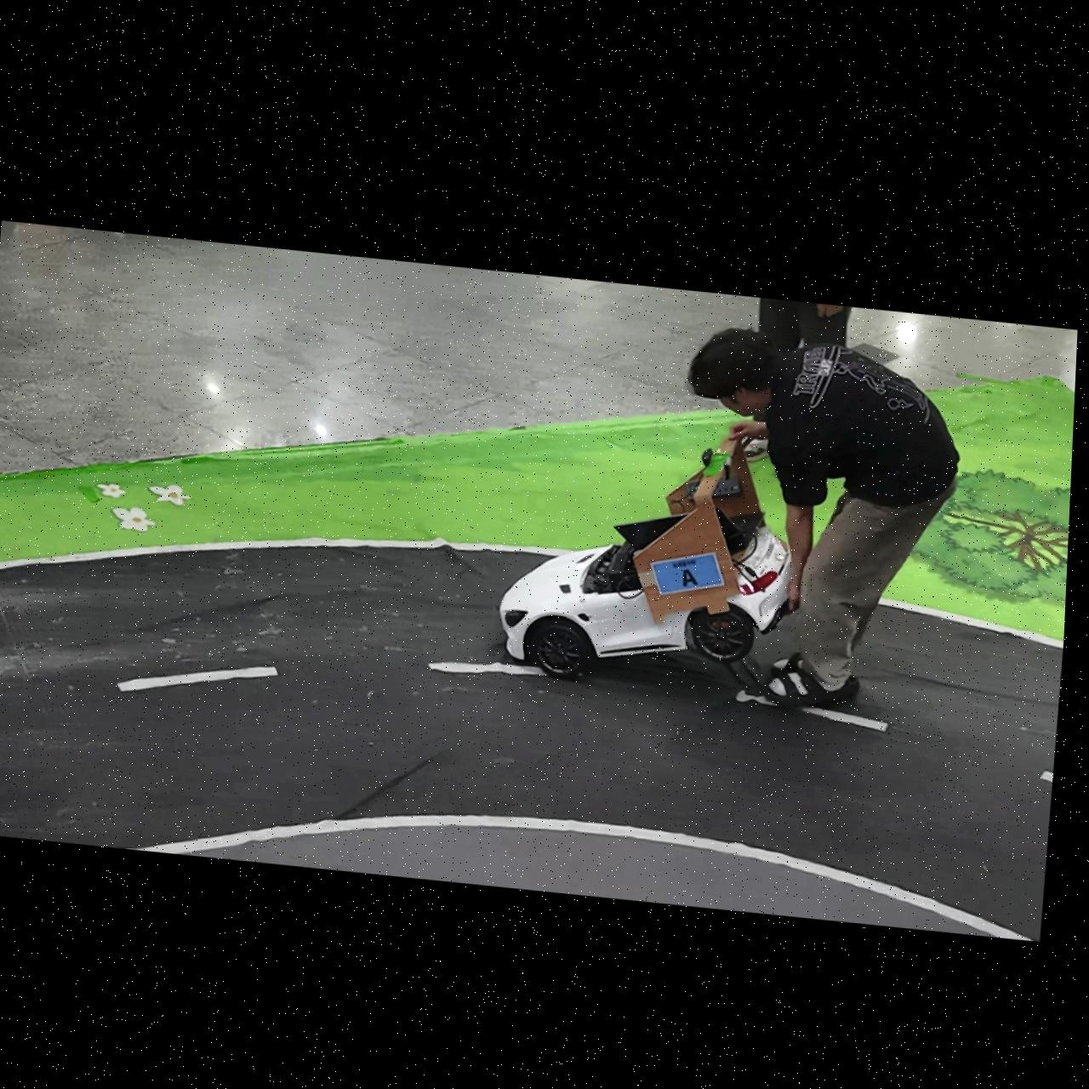broken_line: (117, 666, 277, 691), (798, 707, 888, 731), (428, 661, 547, 675), (735, 691, 777, 705), (1040, 770, 1052, 782)
